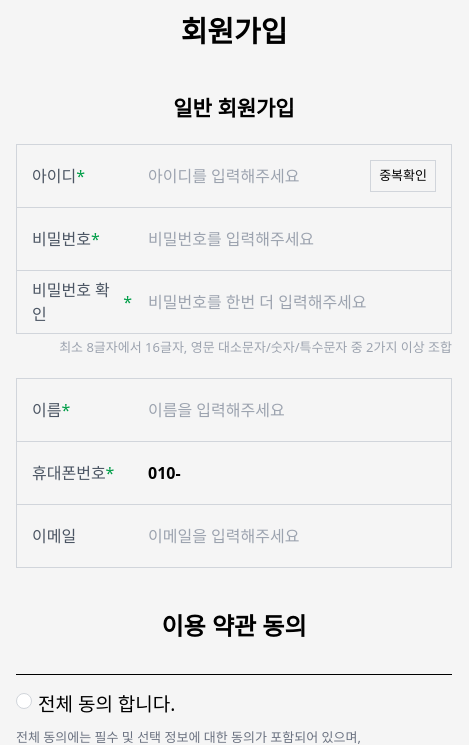
it: 회원가입 › 핸드폰 번호를 13글자 이상 입력하면 값이 입력되지 않아야합니다.
Replace the text in the field with placeholder "휴대폰번호를 입력해주세요" with "010-1234-56789" at (284, 472), box [132,446,436,498]
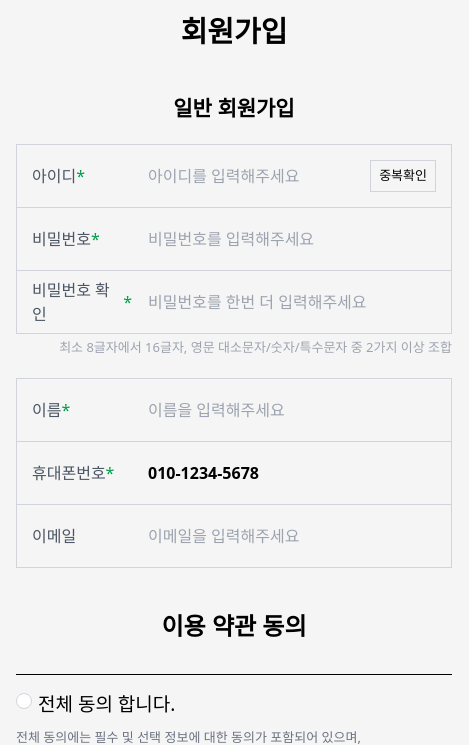
Now the field with placeholder "휴대폰번호를 입력해주세요" holds "010-1234-5678", box [132,446,436,498]
